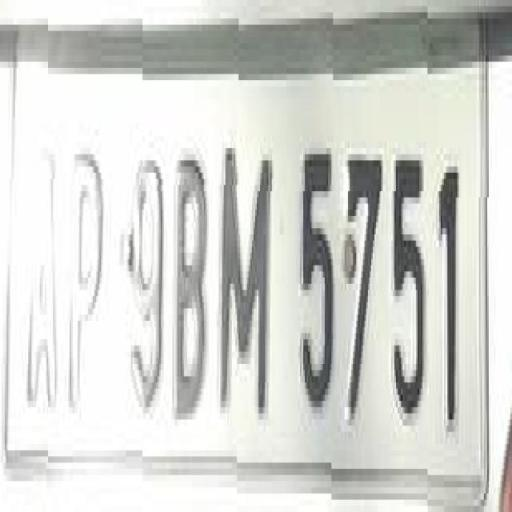number plate: (18, 12, 512, 488)
